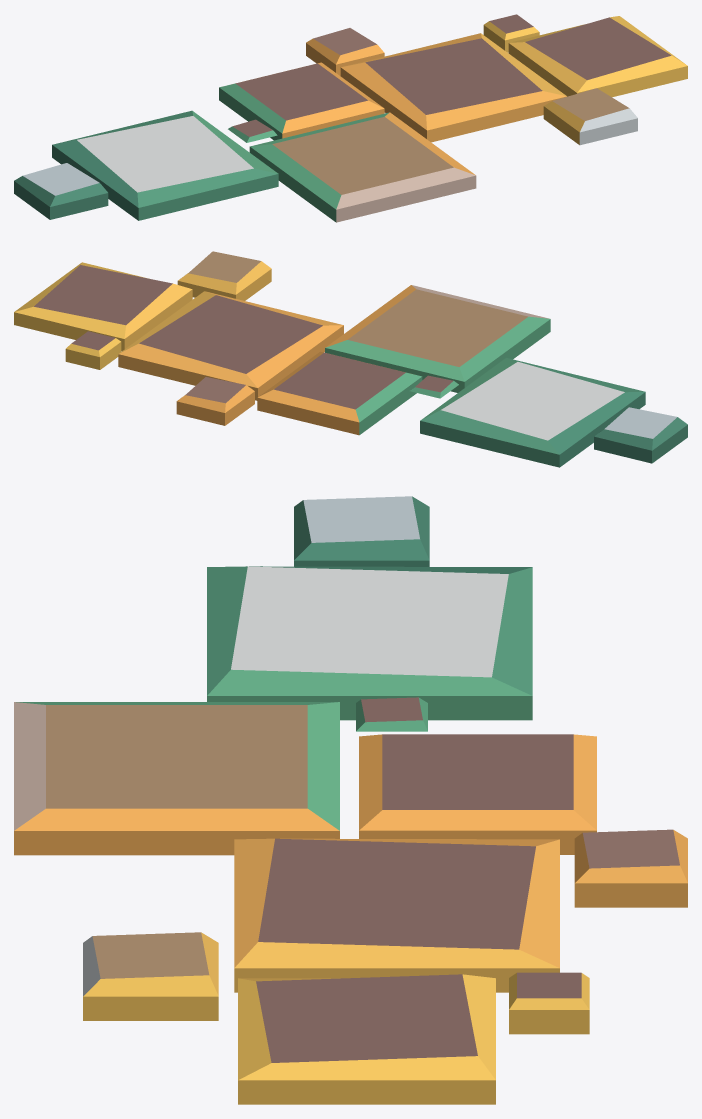
Rendered from path.glb.
The picture shows the model from 3 angles, top to bottom: view 1: azimuth 30°, elevation 25°; view 2: azimuth 150°, elevation 25°; view 3: azimuth 270°, elevation 25°; orthographic projection. The views are drawn at different scales.
Visible parts, largest first — view 1: Path.001; view 2: Path.001; view 3: Path.001.
Part boxes in pixels (left/top/right/bottom): Path.001: left=14, top=14, right=687, bottom=222; Path.001: left=14, top=251, right=687, bottom=467; Path.001: left=14, top=496, right=687, bottom=1104.
Bounding box in the file's own units: 1.57 × 0.0492 × 0.7805.
